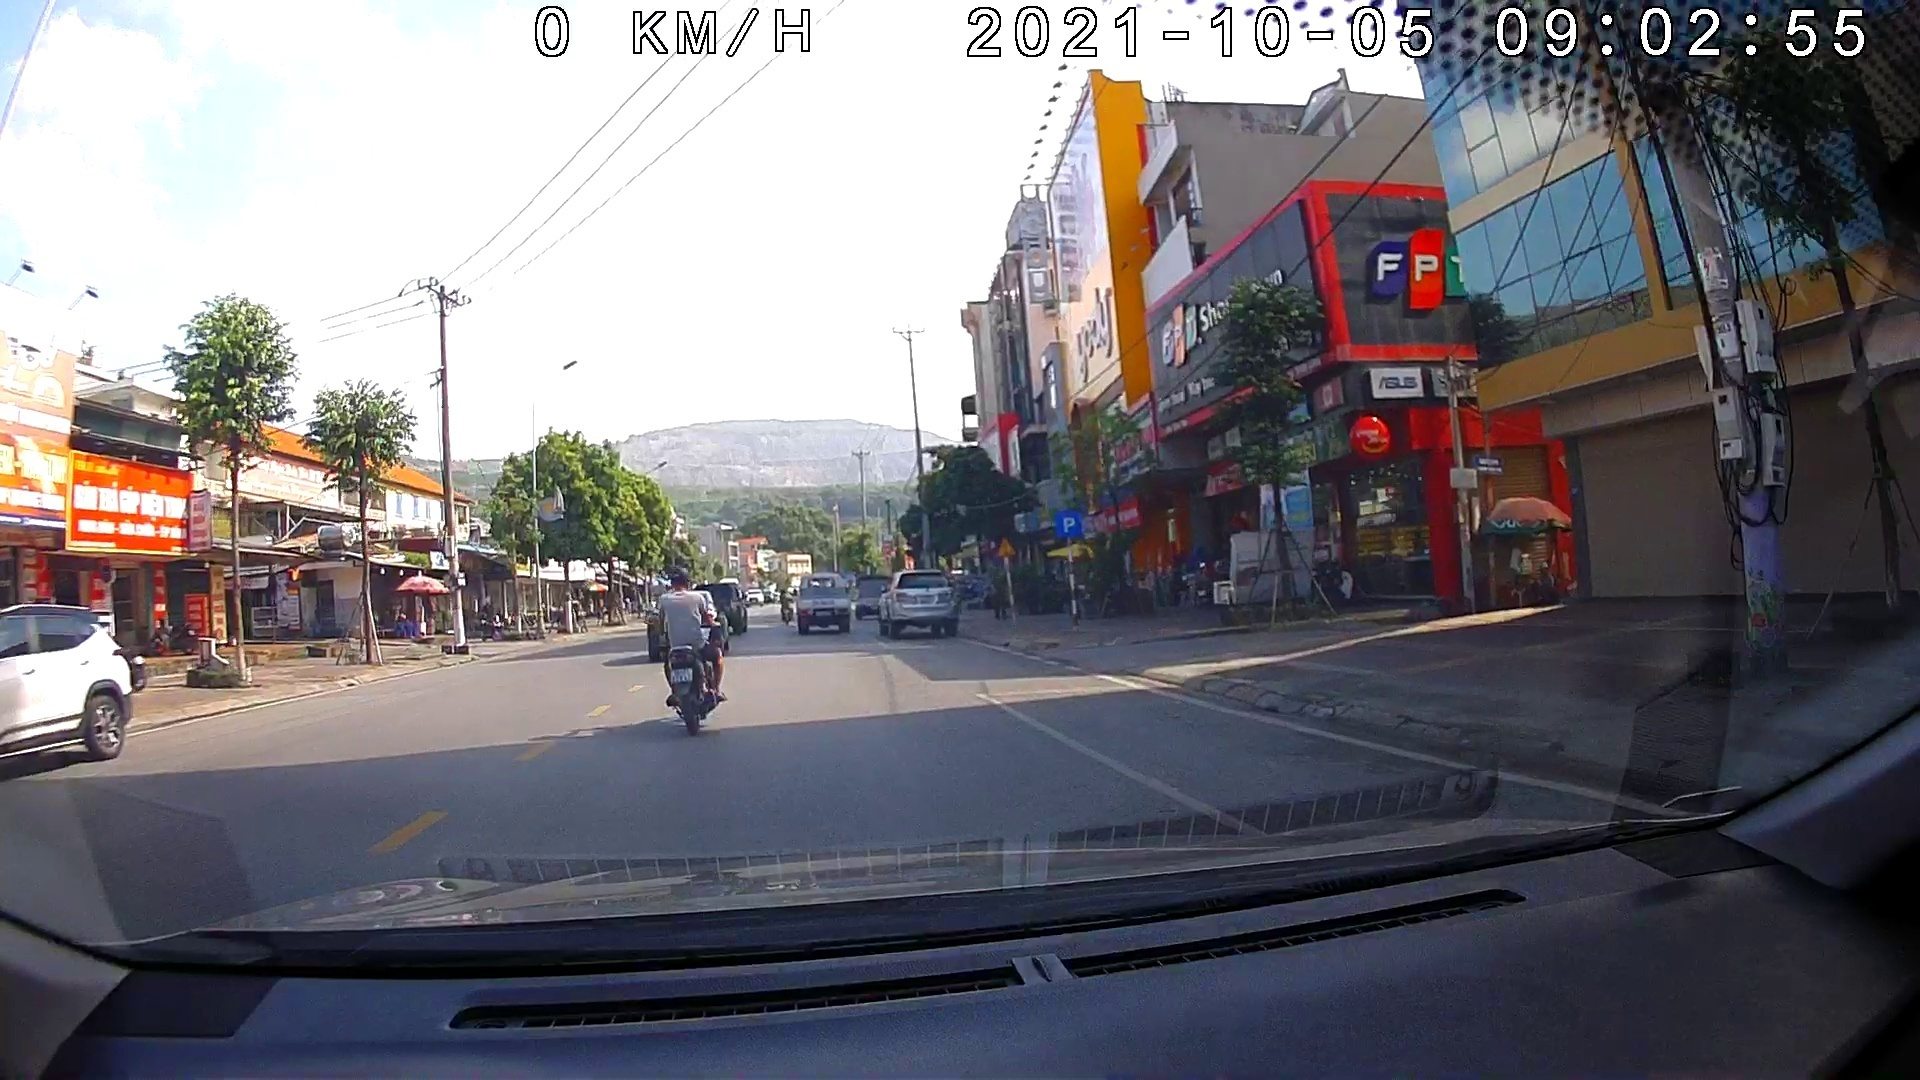Bien khac: (1054, 506, 1083, 537), (996, 535, 1015, 556)
